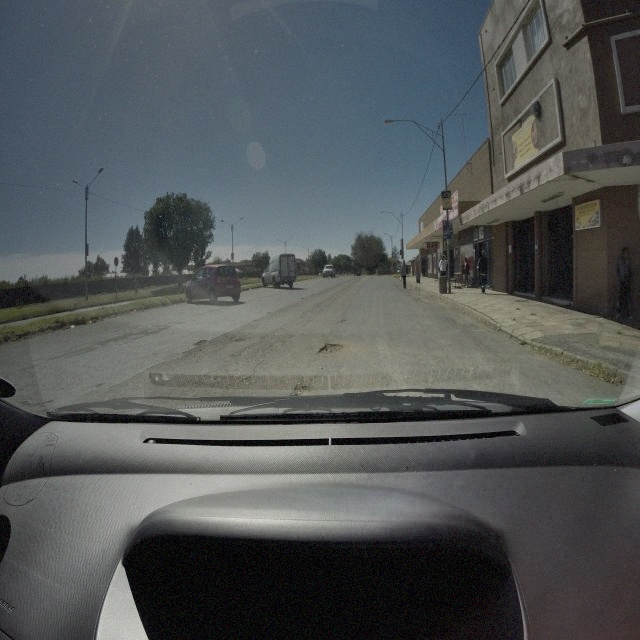pothole: (320, 340, 345, 356), (294, 378, 307, 392), (195, 339, 210, 349), (415, 297, 431, 306), (454, 315, 464, 326), (341, 318, 346, 324)
